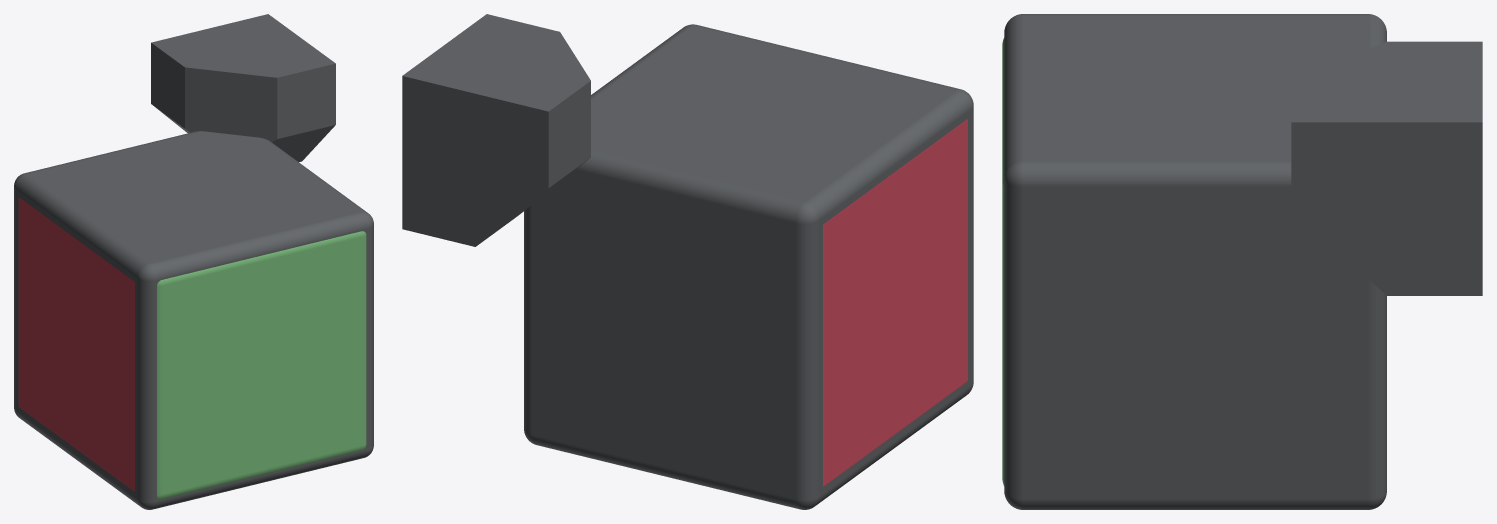
The model's file is RubiksCubeCorner.glb.
3 views of the same model, side by side, from view 1: azimuth 30°, elevation 25°; view 2: azimuth 150°, elevation 25°; view 3: azimuth 270°, elevation 25° (orthographic). The views are drawn at different scales.
Visible parts, largest first — view 1: Mesh_Mesh_head_geo.001_lambert2SG.001; view 2: Mesh_Mesh_head_geo.001_lambert2SG.001; view 3: Mesh_Mesh_head_geo.001_lambert2SG.001.
Part boxes in pixels (box(x1,y1,x2,y2)): Mesh_Mesh_head_geo.001_lambert2SG.001: box(14, 14, 373, 509); Mesh_Mesh_head_geo.001_lambert2SG.001: box(402, 14, 973, 509); Mesh_Mesh_head_geo.001_lambert2SG.001: box(1002, 14, 1482, 509).
Bounding box in the file's own units: 25 × 25.04 × 25.1.
